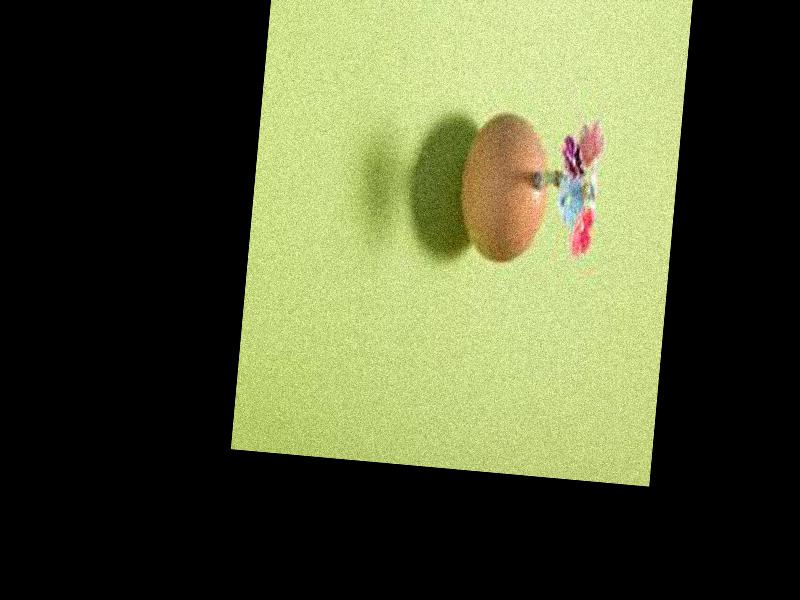Eggs: (454, 110, 553, 264)
